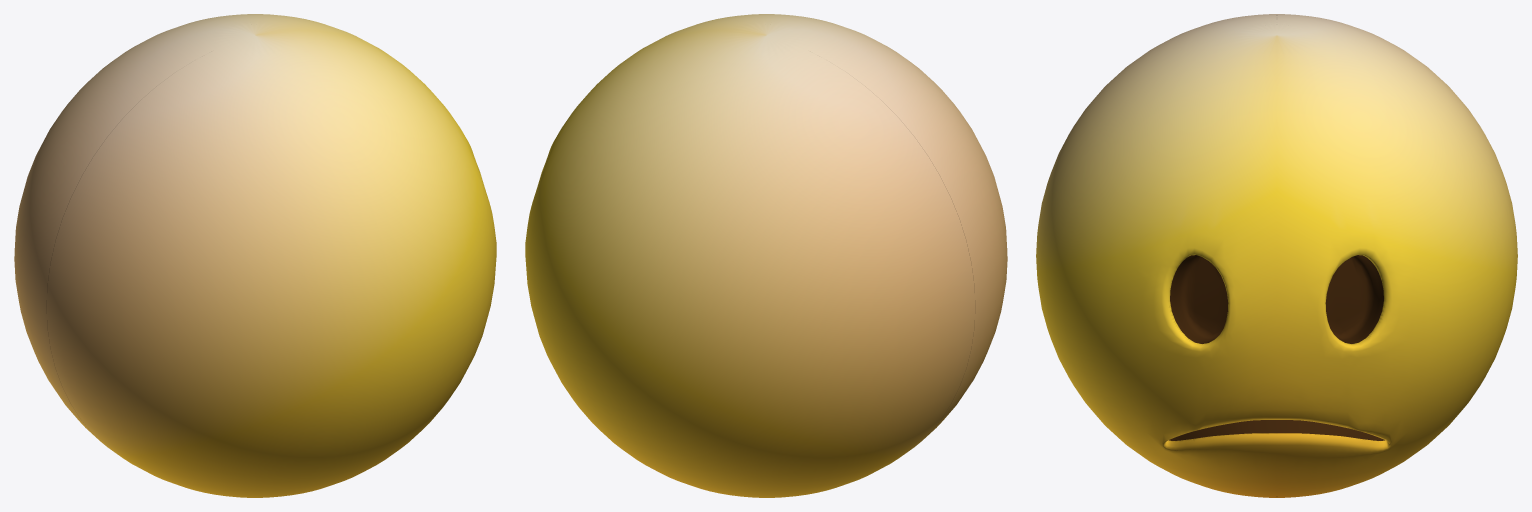
The model's file is anxious.glb.
The picture shows the model from 3 angles, left to right: view 1: azimuth 30°, elevation 25°; view 2: azimuth 150°, elevation 25°; view 3: azimuth 270°, elevation 25°; orthographic projection.
Parts seen in each view (by area): view 1: Sphere.015_0; view 2: Sphere.015_0; view 3: Sphere.015_0.
Boxes of the visible parts, <box> form: Sphere.015_0: <box>14,14,496,497</box>; Sphere.015_0: <box>525,14,1007,497</box>; Sphere.015_0: <box>1036,14,1517,497</box>.
Bounding box in the file's own units: 1.97 × 2 × 1.97.
2 materials, 1 textured.
